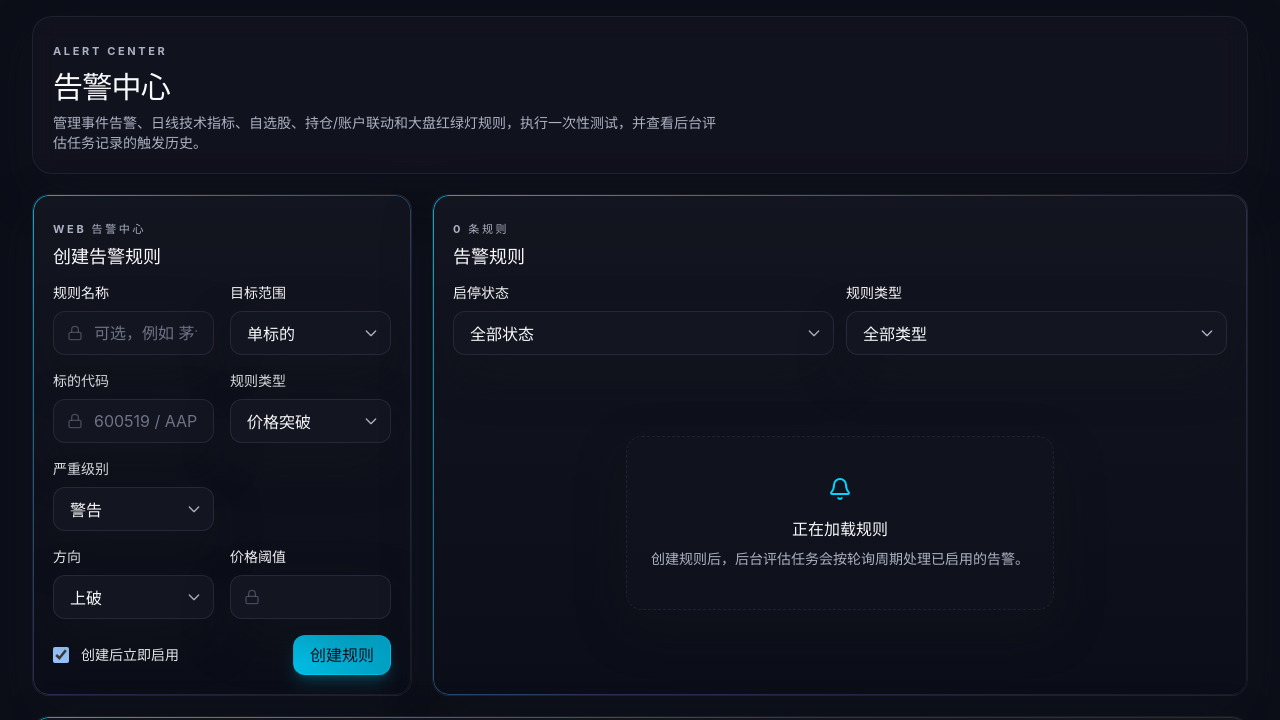
Test: AlertsPage › keeps the latest rules response when filter requests resolve out of order
This screenshot has width=1280, height=720.
Select "已停用" in the dropdown labelled "启停状态" at (644, 333), box [453,311,834,355]
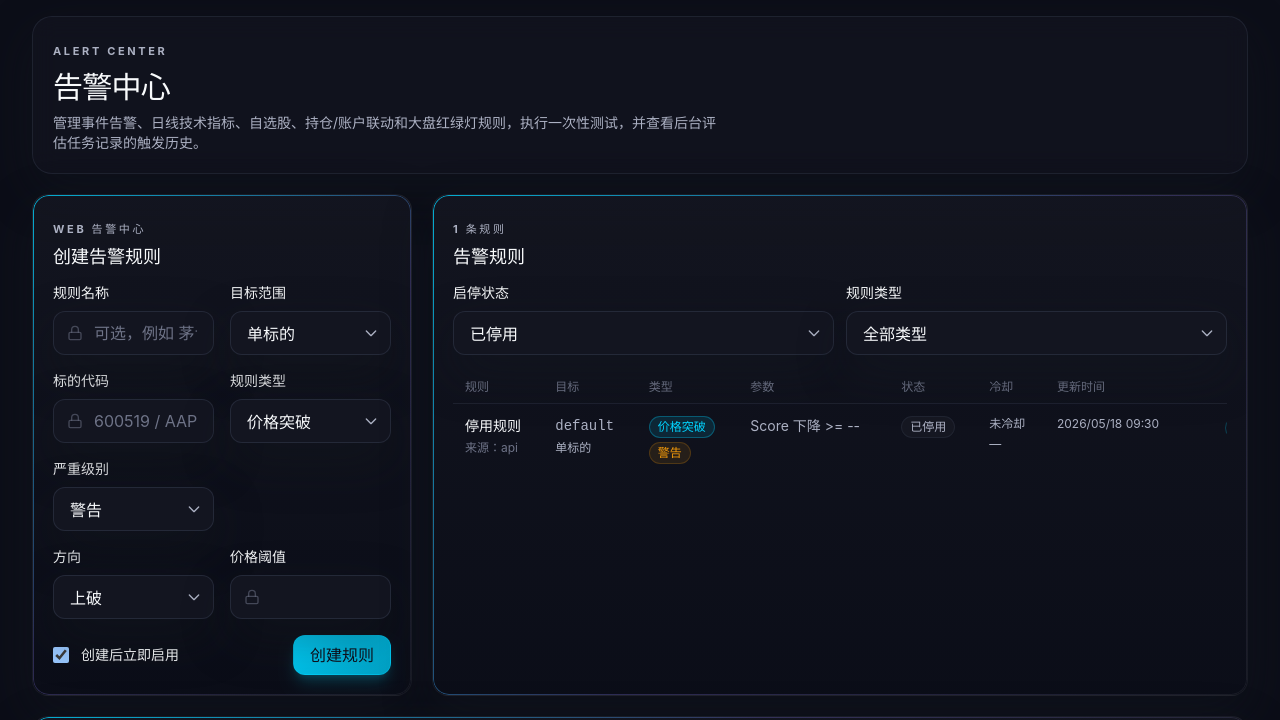
Now the text "停用规则" is shown, box [465,417,521,434]
